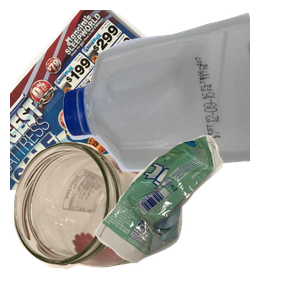glass: (11, 139, 179, 300)
paper: (10, 10, 240, 190)
plastic: (60, 10, 300, 175)
trash: (92, 133, 300, 300)
